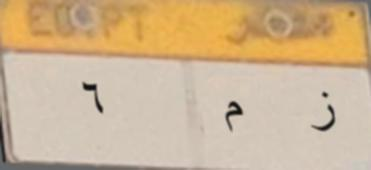6: (72, 74, 112, 119)
meem: (215, 95, 257, 138)
zay: (304, 86, 341, 138)
